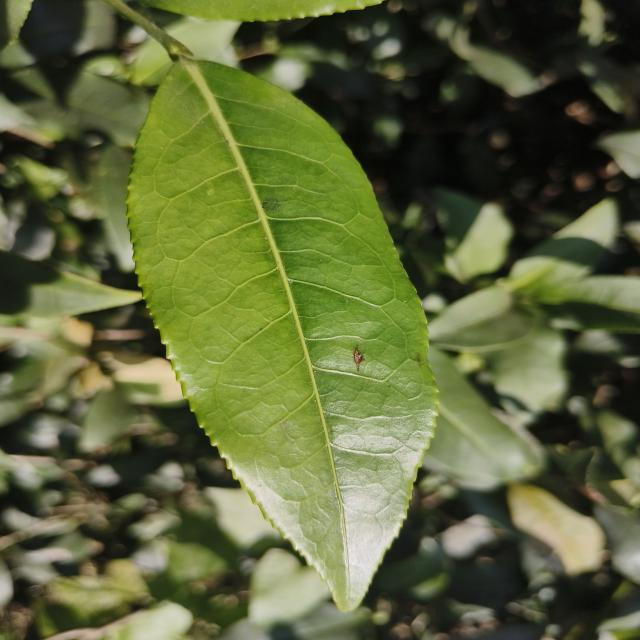Leaf: (127, 56, 437, 610), (424, 346, 541, 480), (0, 65, 150, 147), (509, 198, 619, 290), (0, 251, 141, 318), (507, 484, 605, 574), (486, 323, 568, 426), (432, 188, 513, 283), (429, 285, 535, 351), (540, 276, 640, 333), (79, 384, 138, 452), (166, 17, 239, 60), (130, 39, 172, 86)
